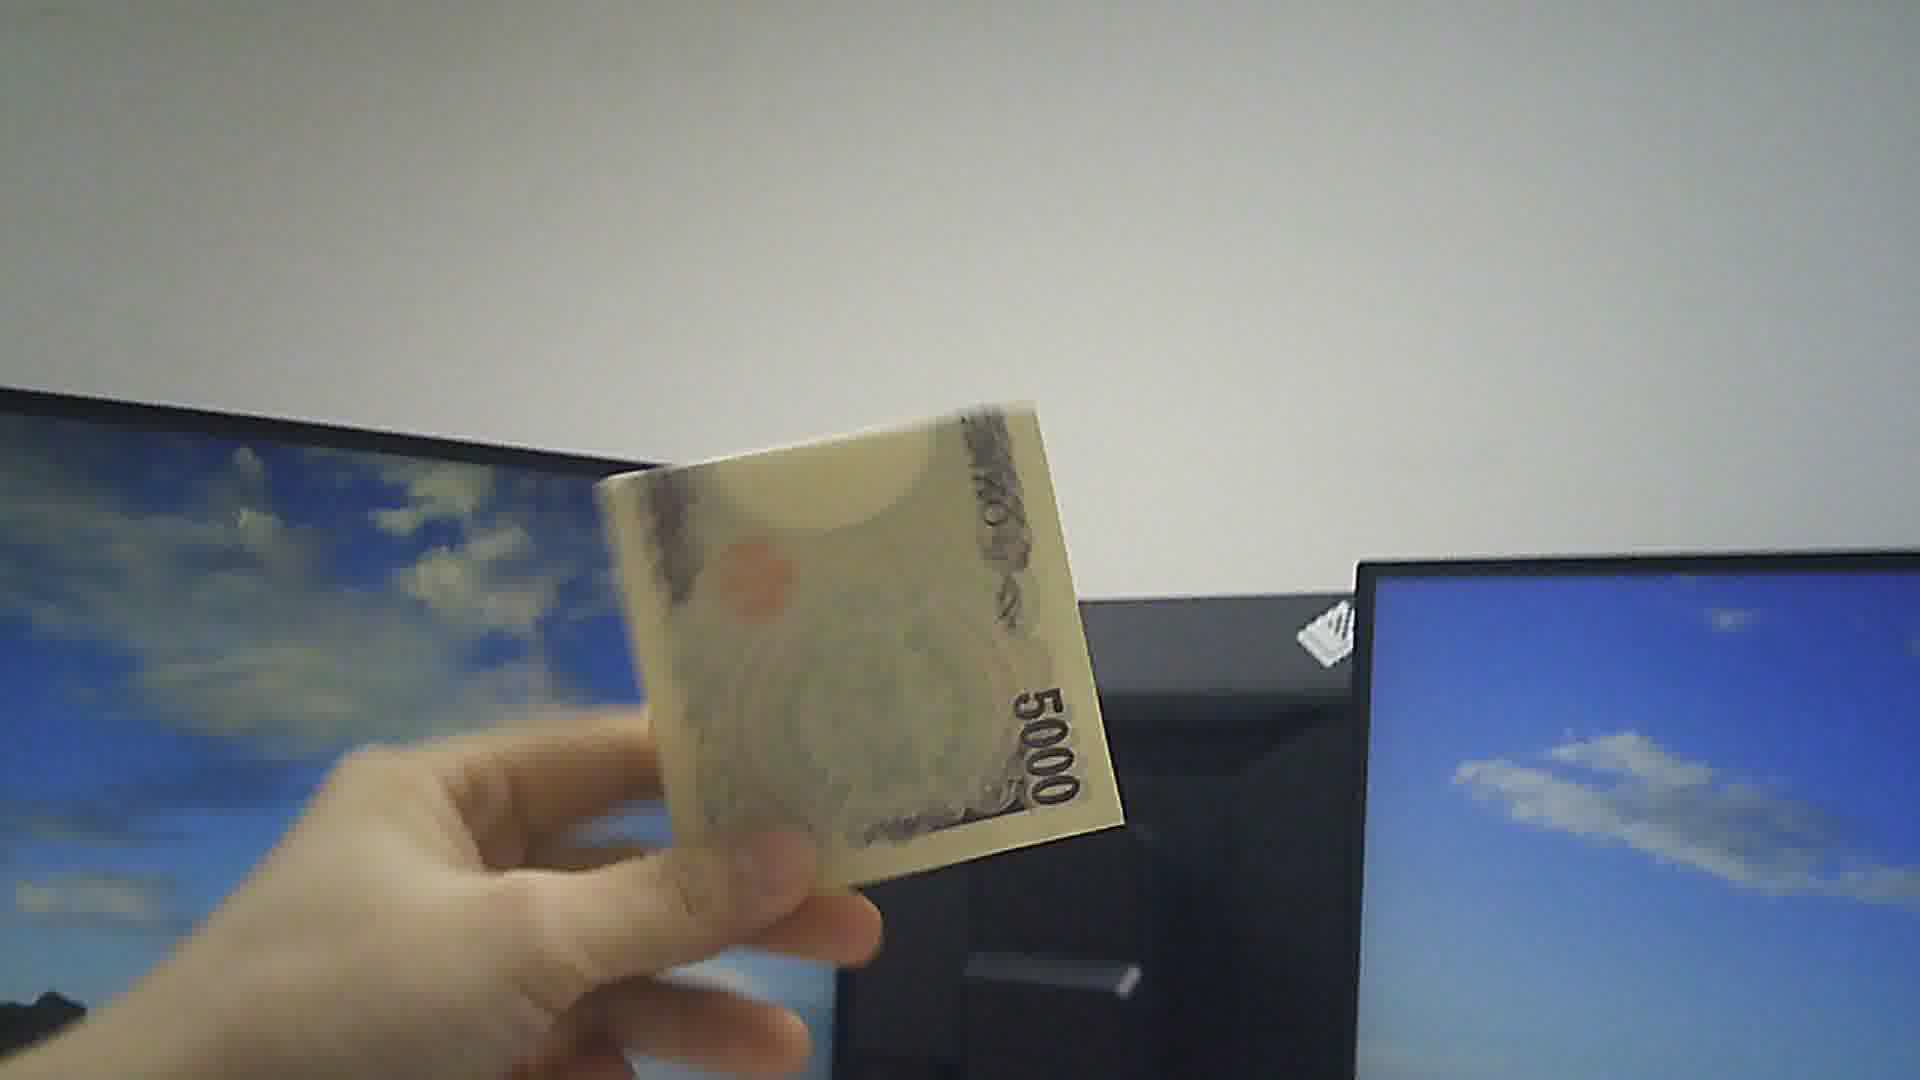5,000 Yen: (588, 381, 1139, 931)
